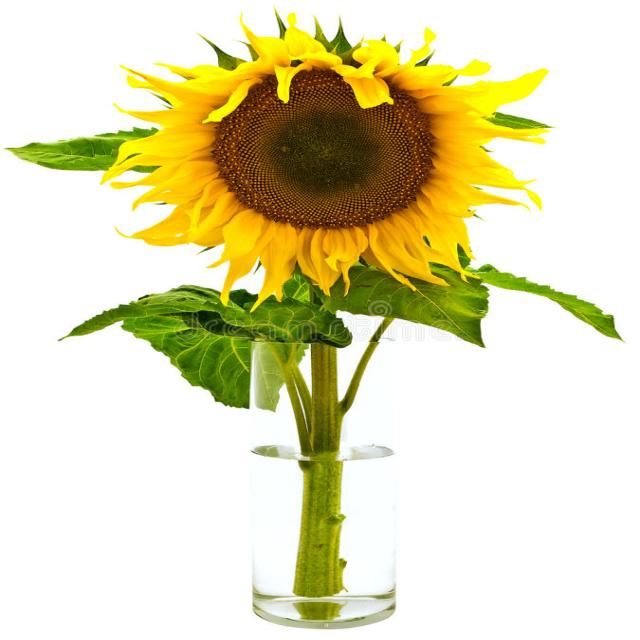sunflower: (83, 12, 584, 317)
